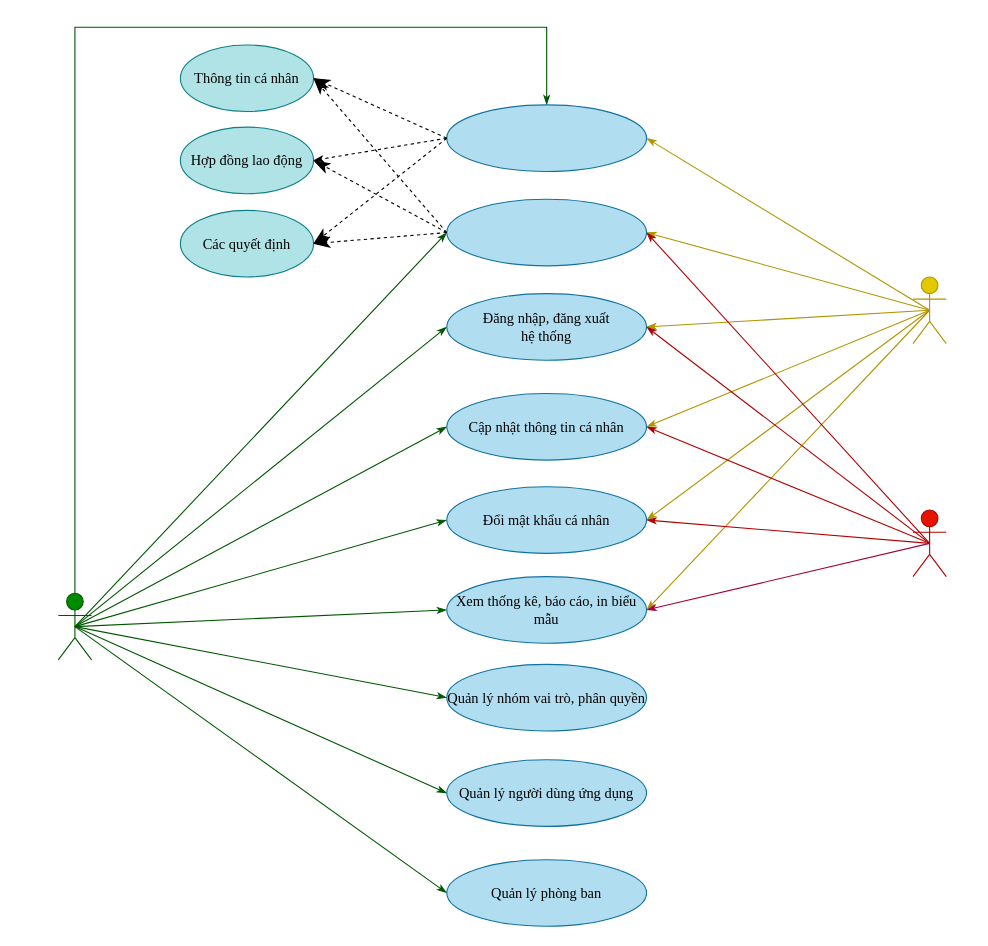
Some shapes in this 988 by 946 pixel diagram are drawn without their labels. Each missing label, with the centre of its shape:
"Administrator" belongs at point 929,310.
"Quản lý người lao động" belongs at point 546,137.
"Superadministrator" belongs at point 74,626.
"User" belongs at point 929,543.
"Xem thông tin người lao động" belongs at point 546,232.
